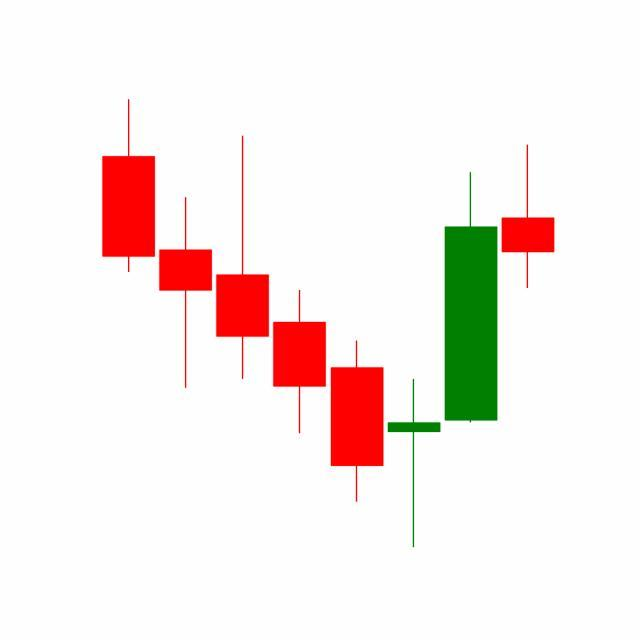Three Inside Up-Down: (328, 168, 500, 549)
